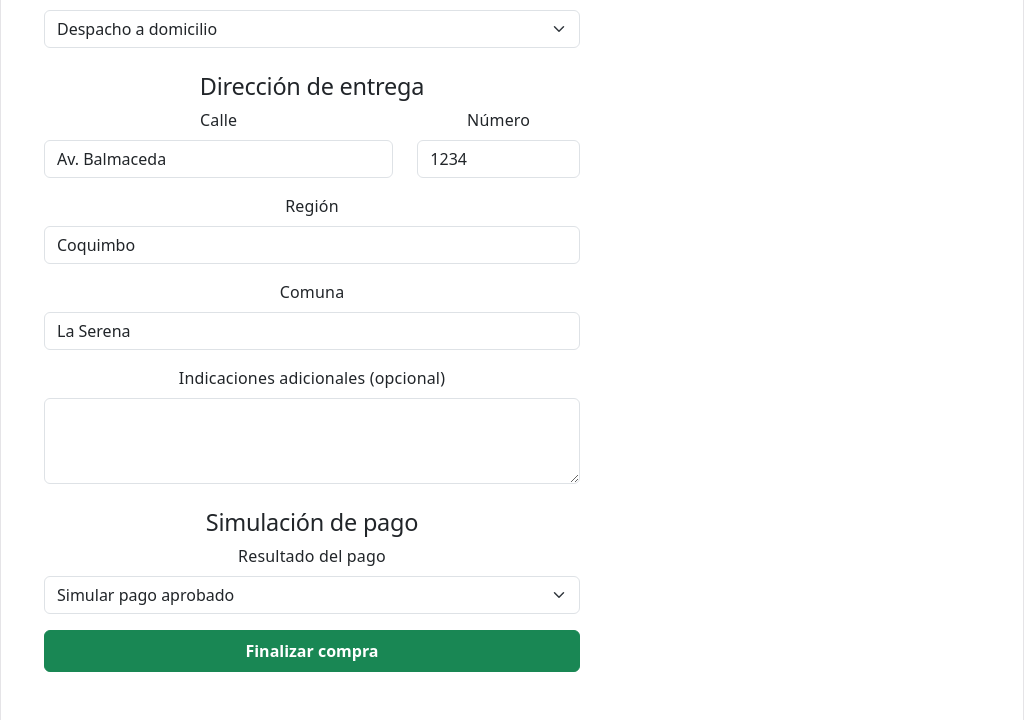
Scenario: Pruebas unitarias - Checkout › Muestra errores cuando los campos están vacíos
The width and height of the screenshot is (1024, 720).
(page scrolled)
Click the button "Finalizar compra": [312, 651] box [44, 630, 580, 672]
(page scrolled)
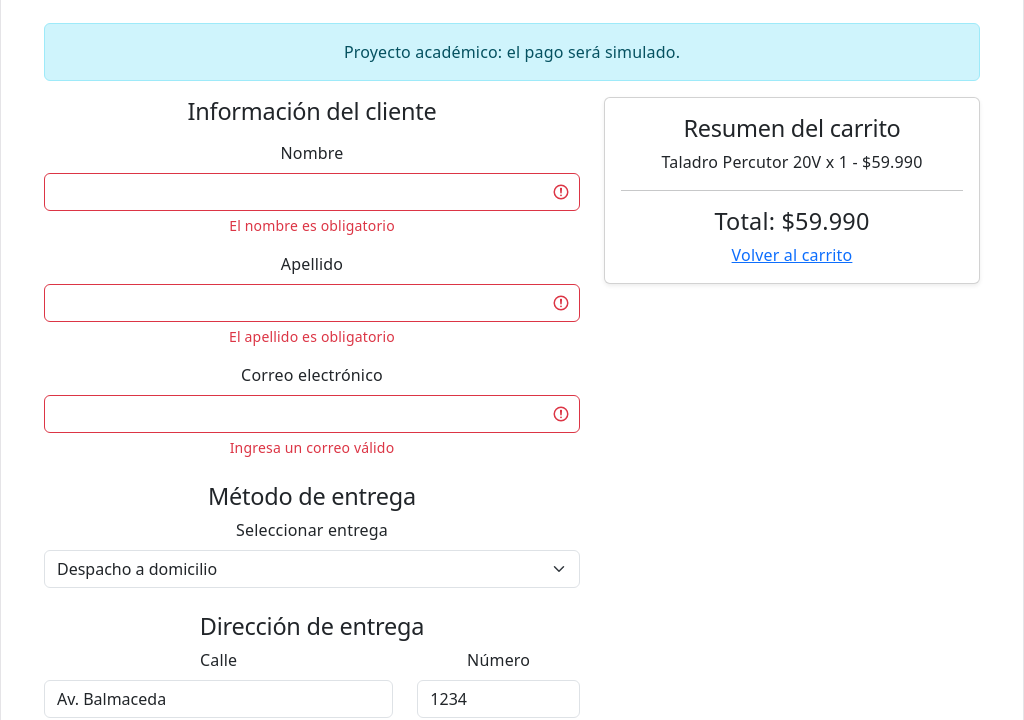
Check: the text "El nombre es obligatorio" is shown, box [229, 216, 395, 235]
Check: the text "El apellido es obligatorio" is shown, box [229, 327, 395, 346]
